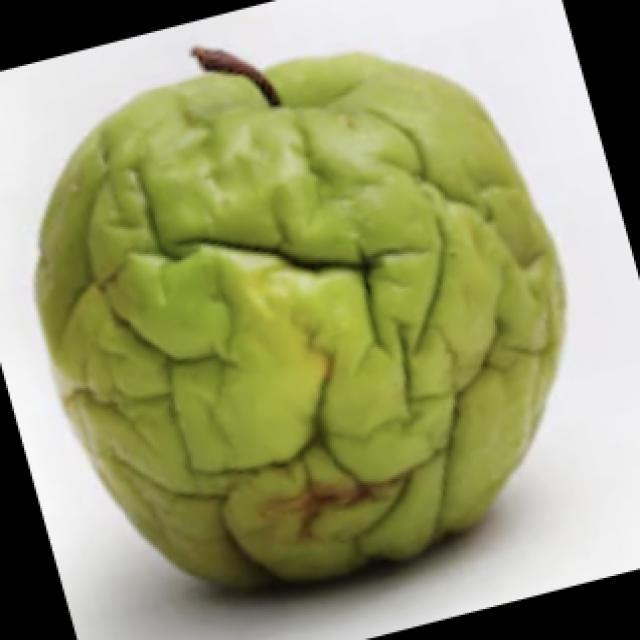Rotten: (45, 50, 563, 587)
